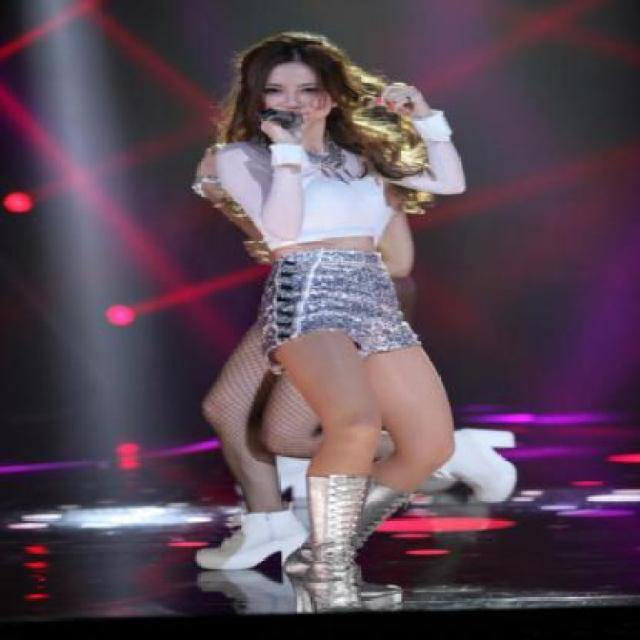Person: (158, 17, 470, 640)
